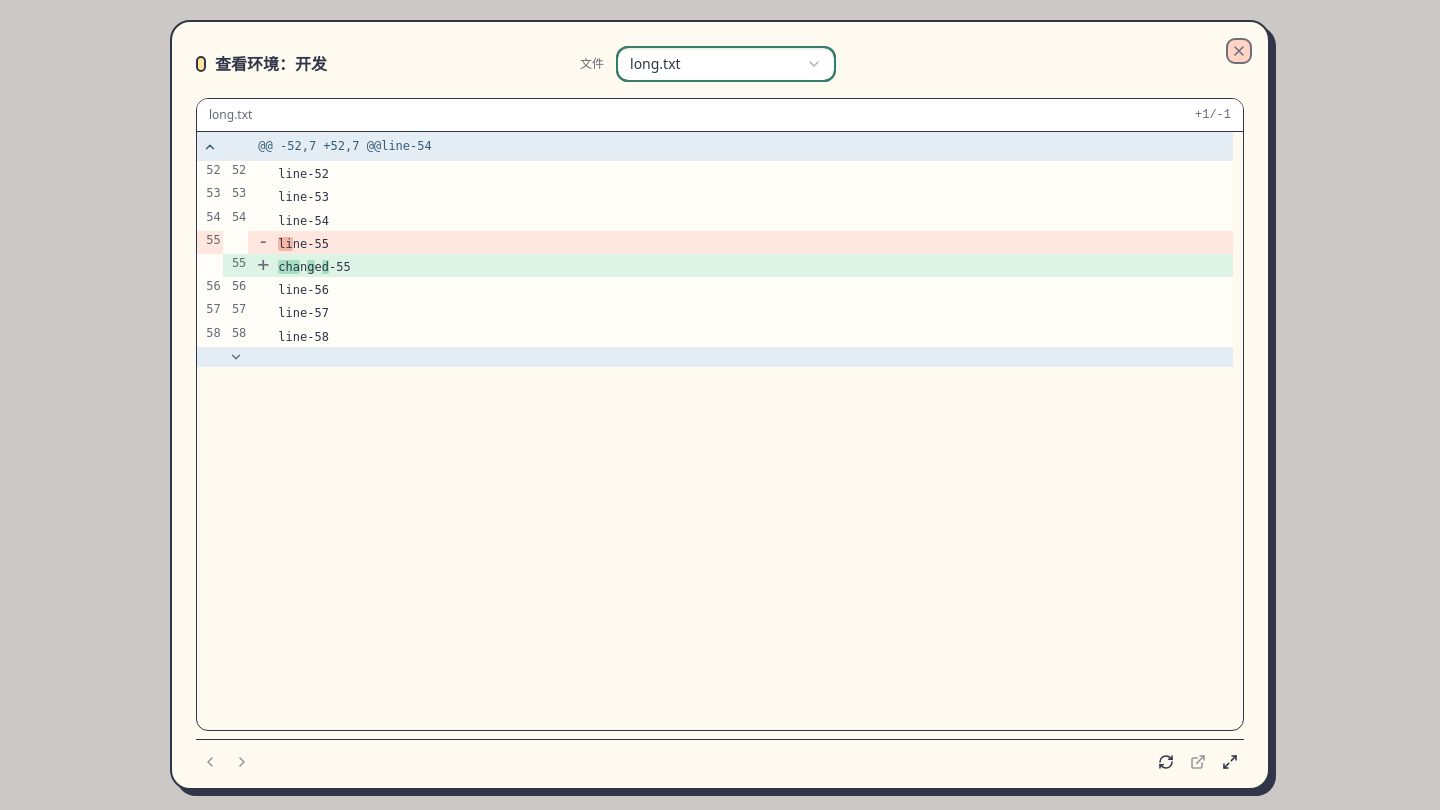
Test case: EnvironmentDiffDialog › extends a single hunk range through the end of a 110-line file
Click the button named "展开当前文件全部内容" at (1230, 762), box [1216,748,1244,776]
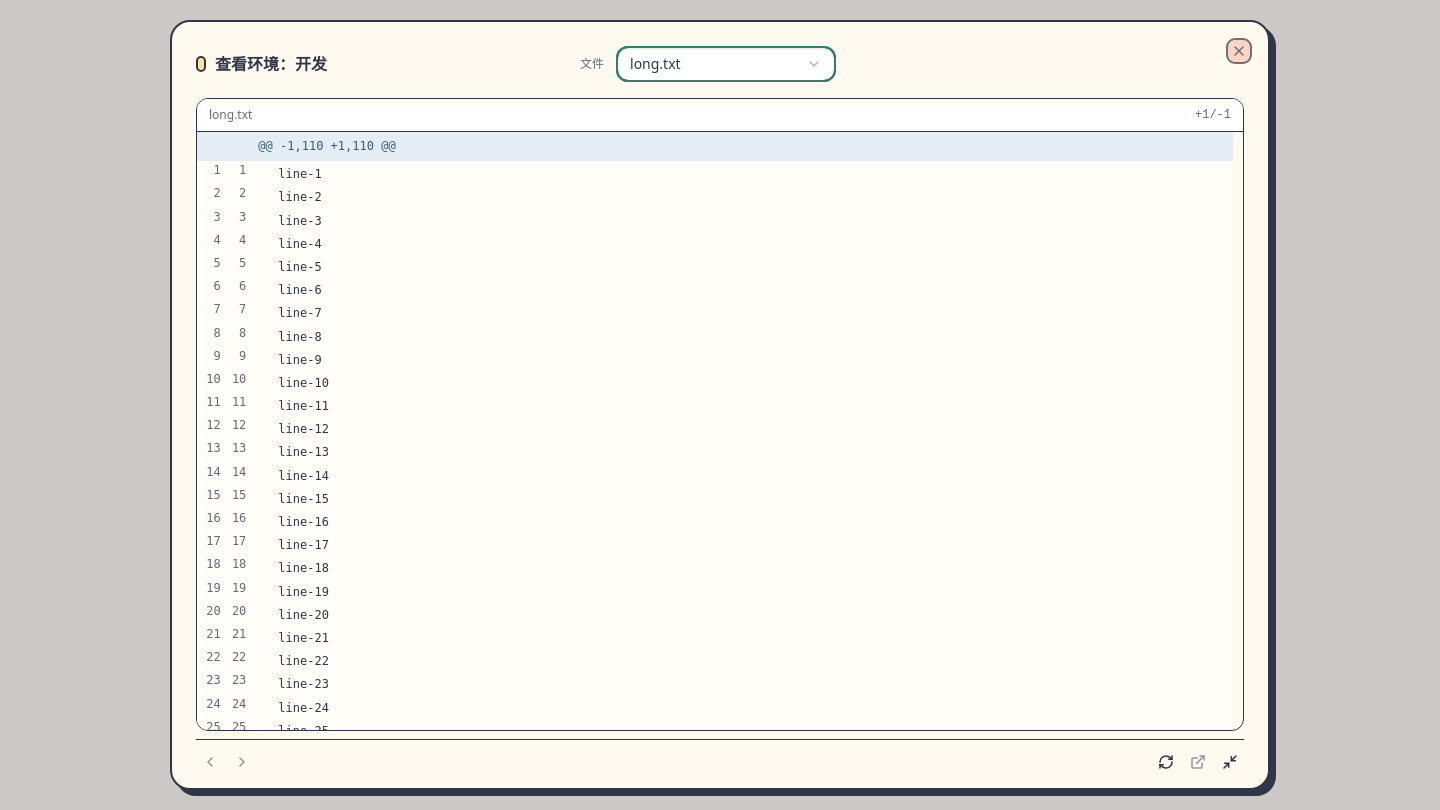
Result: the row with test id "environment-diff-hunk-header" reads "@@ -1,110 +1,110 @@" at [258,139,396,153]
